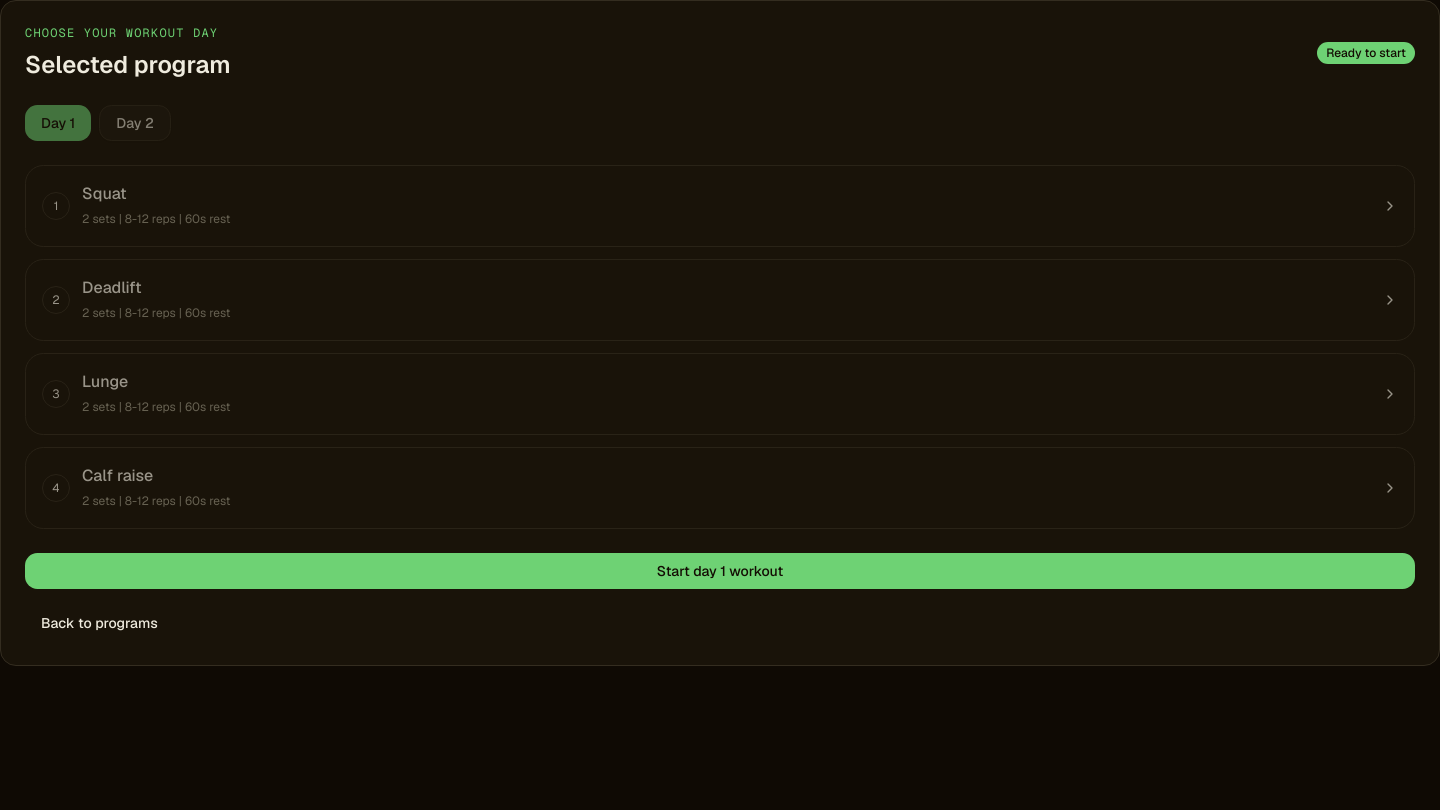
Test: workout interaction › locks a resumed session's day and trusts its stored day over the supplied day
The image size is (1440, 810).
Later steps or results of the test are not shown.
Expected: the button "Day 1" is disabled, [25, 105, 91, 141]
Expected: the button "Day 2" is disabled, [99, 105, 171, 141]
Step 1. Click the button "Start day 1 workout" → (720, 571), box [25, 553, 1415, 589]
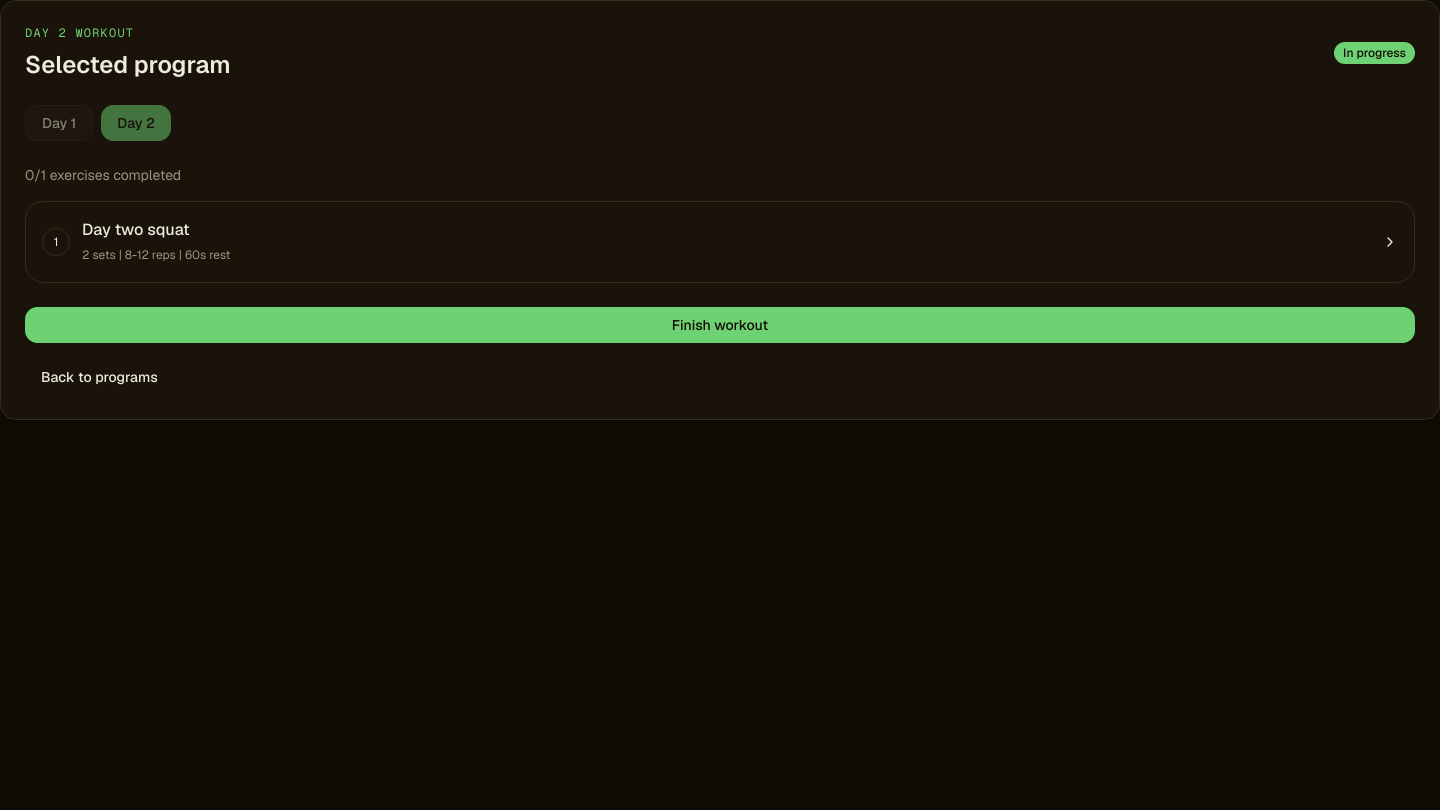
Expected: the button "1 Day two squat 2 sets | 8-12 reps | 60s rest" is enabled, [25, 201, 1415, 283]
